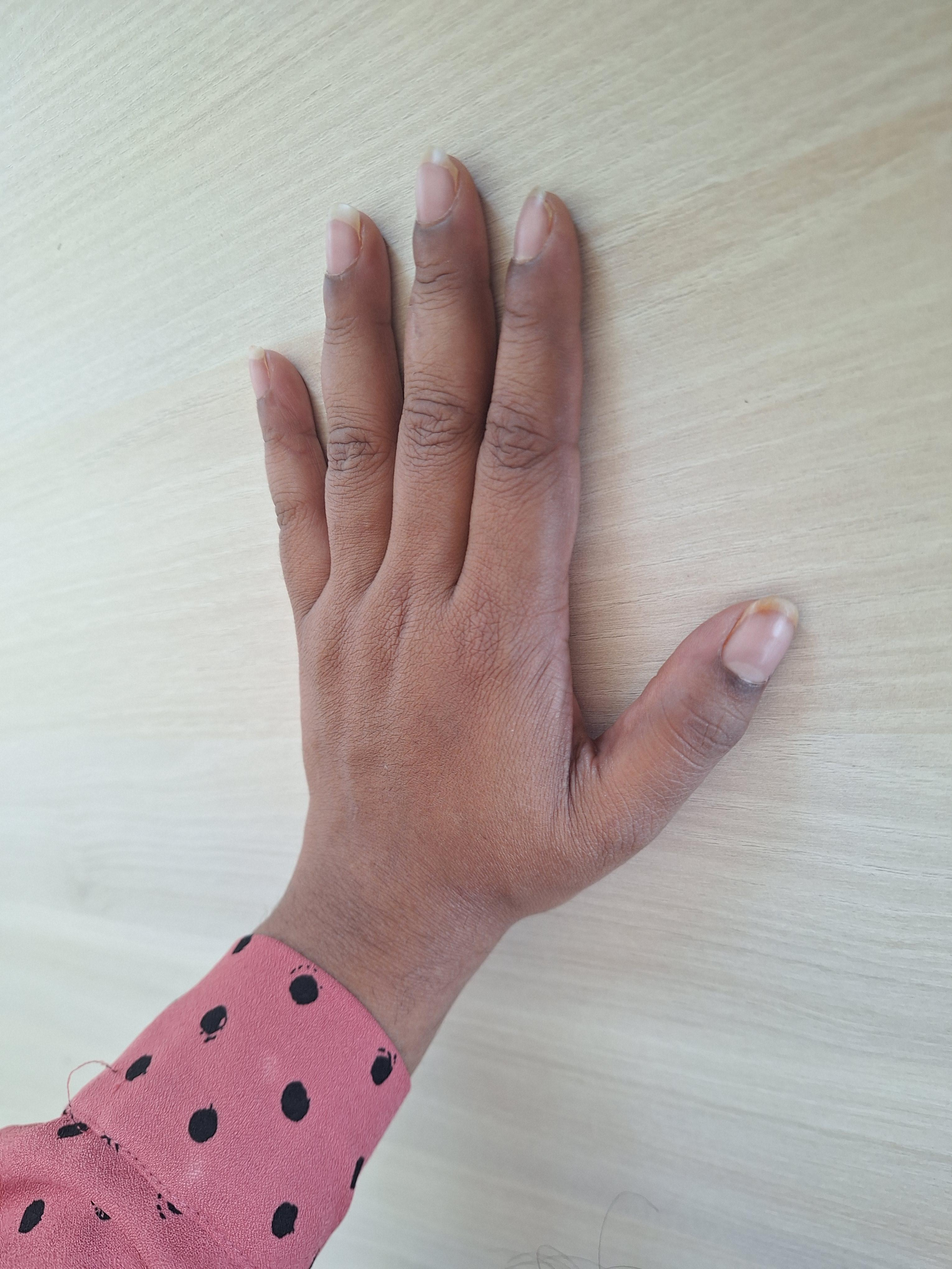Fingernail: (723, 596, 799, 684), (415, 145, 458, 223), (513, 185, 552, 262), (325, 203, 362, 275), (248, 345, 271, 399)
